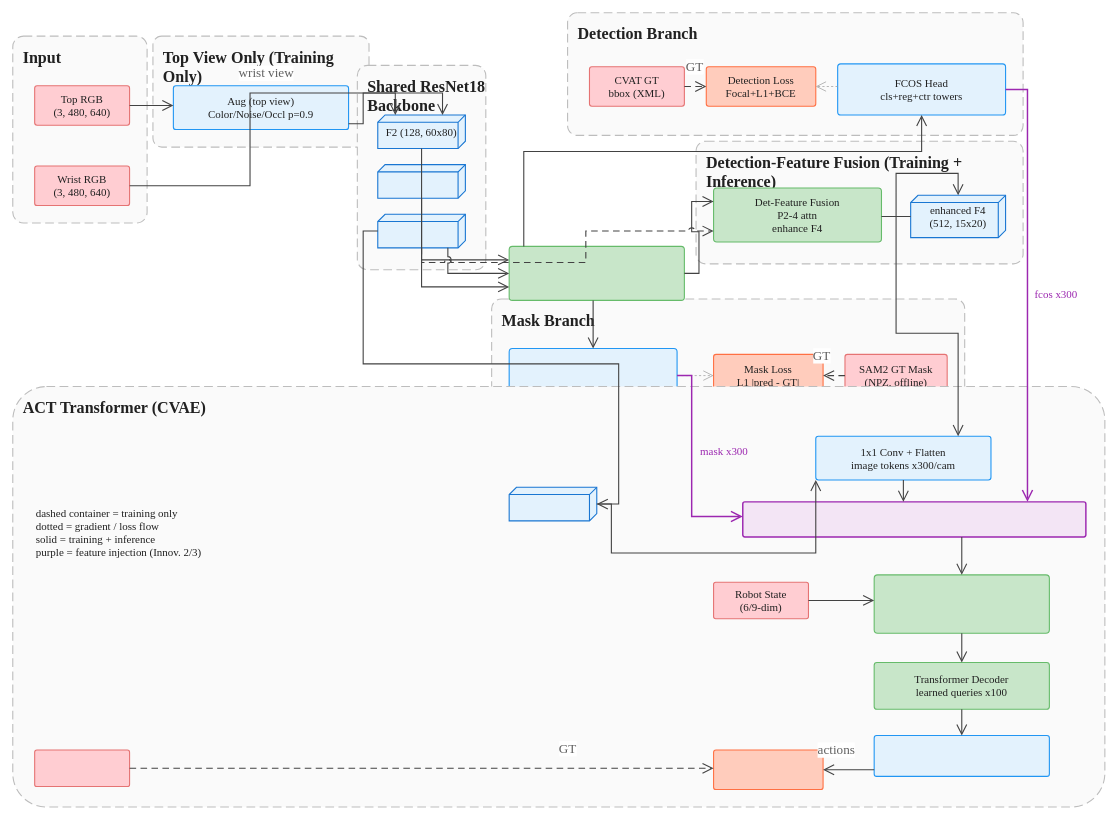
Some shapes in this 1119 by 821 pixel diagram are drawn without their labels. The shapes that lost their labels are listed below. From the top down, each one's box as (x1, y1, x2, y2) in pixels, then its label:
(377, 164, 466, 198): F3 (256, 30x40)
(377, 213, 466, 248): F4 (512, 15x20)
(508, 245, 685, 301): FPN P2 (60x80) P3 (30x40) P4 (15x20)
(508, 348, 677, 403): Mask Decoder P4+P3+P2 fuse -> f432
(508, 486, 597, 521): wrist F4 (512, 15x20)
(742, 501, 1086, 537): latent|state|top_img|wrist_img +fcos+mask
(873, 574, 1050, 633): Transformer Encoder + pos embeddings
(34, 749, 130, 787): Action GT (B, 100, 6)
(713, 749, 823, 790): Action L1 Loss
(873, 735, 1050, 777): Action Head Linear -> 6
